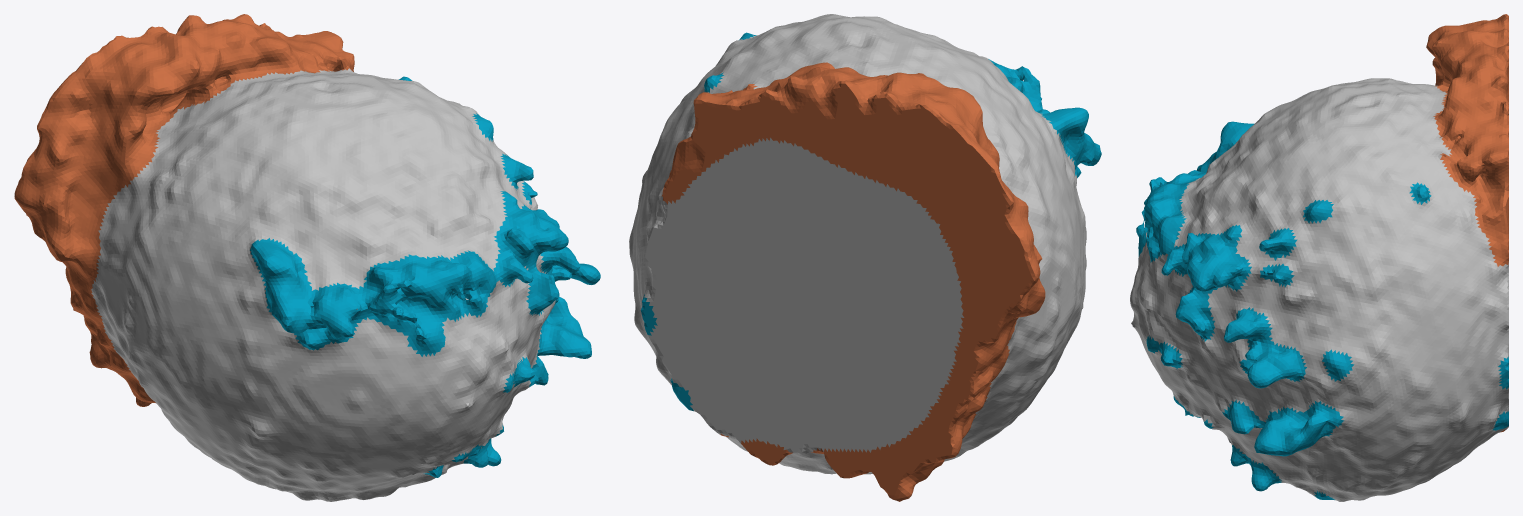
3 renders of one model, left to right at view 1: azimuth 30°, elevation 25°; view 2: azimuth 150°, elevation 25°; view 3: azimuth 270°, elevation 25°, orthographic. The views are drawn at different scales.
Size of the model in its own units: 105 by 94.3 by 82.32.
